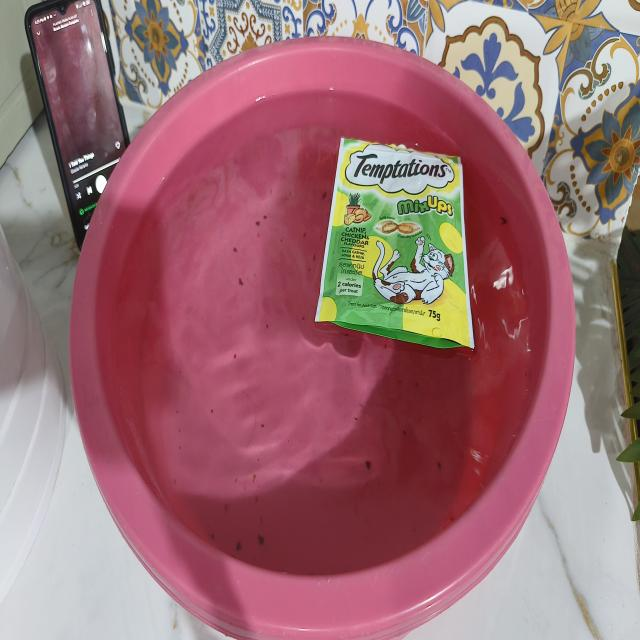Plastic Wrapper: (294, 95, 491, 386)
